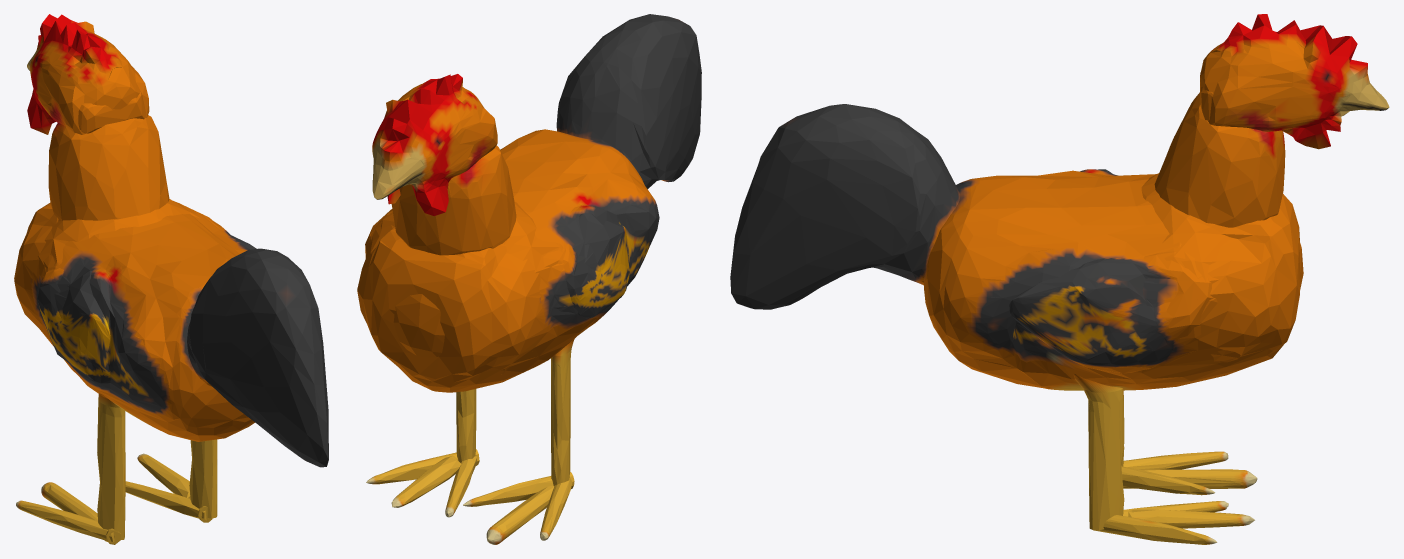
File: ニワトリ.glb
The picture shows the model from 3 angles, left to right: view 1: azimuth 30°, elevation 25°; view 2: azimuth 150°, elevation 25°; view 3: azimuth 270°, elevation 25°; orthographic projection. The views are drawn at different scales.
Parts seen in each view (by area): view 1: クアッドスフィア; view 2: クアッドスフィア; view 3: クアッドスフィア.
Boxes of the visible parts, <box> form: クアッドスフィア: <box>14,14,328,544</box>; クアッドスフィア: <box>357,14,701,544</box>; クアッドスフィア: <box>730,14,1389,544</box>.
Bounding box in the file's own units: 1.24 × 2.64 × 3.19.
